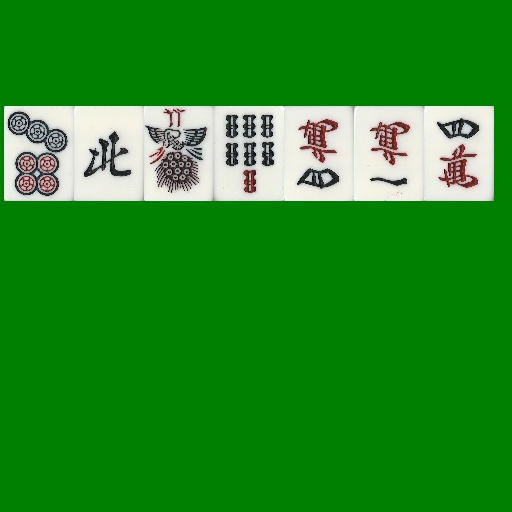1m: (354, 106, 424, 201)
1s: (144, 106, 214, 201)
4m: (284, 106, 354, 201), (424, 106, 494, 201)
7p: (4, 106, 74, 201)
7s: (214, 106, 284, 201)
north: (74, 106, 144, 201)
